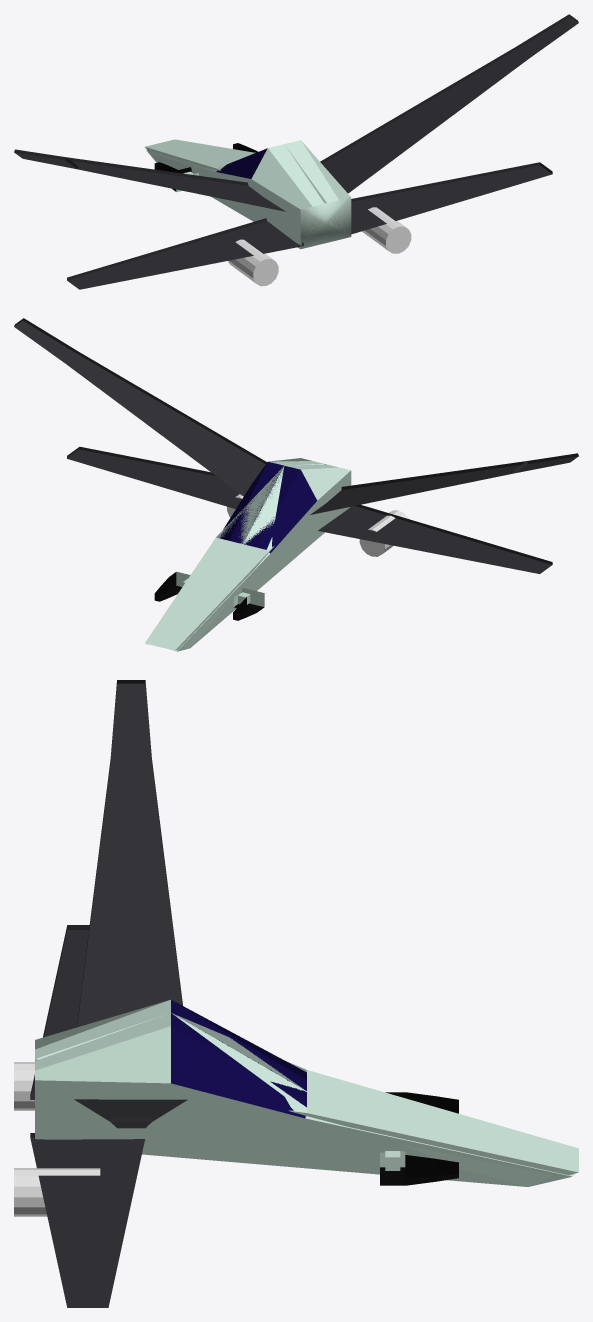
File: ship_test.fbx
The picture shows the model from 3 angles, top to bottom: view 1: azimuth 30°, elevation 25°; view 2: azimuth 150°, elevation 25°; view 3: azimuth 270°, elevation 25°; orthographic projection. The views are drawn at different scales.
Visible parts, largest first — view 1: Cube.001, Body, Cube.002, Cylinder; view 2: Body, Cube.001, Cube.002, Cylinder; view 3: Body, Cube.001, Cube.002, Cylinder.
Part boxes in pixels (x1,y1,x2,y2): Cube.001: (14, 14, 578, 211); Body: (145, 139, 351, 249); Cube.002: (67, 162, 552, 289); Cylinder: (228, 207, 411, 286); Body: (145, 458, 351, 651); Cube.001: (14, 318, 578, 514); Cube.002: (67, 446, 552, 573); Cylinder: (227, 494, 408, 556); Body: (35, 999, 578, 1186); Cube.001: (74, 680, 187, 1128); Cube.002: (30, 925, 144, 1307); Cylinder: (14, 1062, 100, 1216).
Size of the model in its own units: 861 by 247 by 462.
